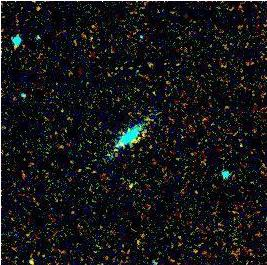star: (117, 171, 147, 201)
